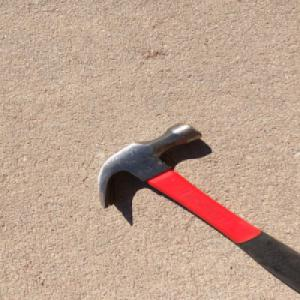Hammer: (93, 120, 300, 293)
